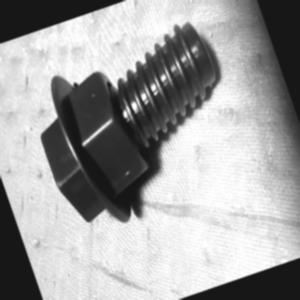parafuso: (18, 16, 254, 241)
